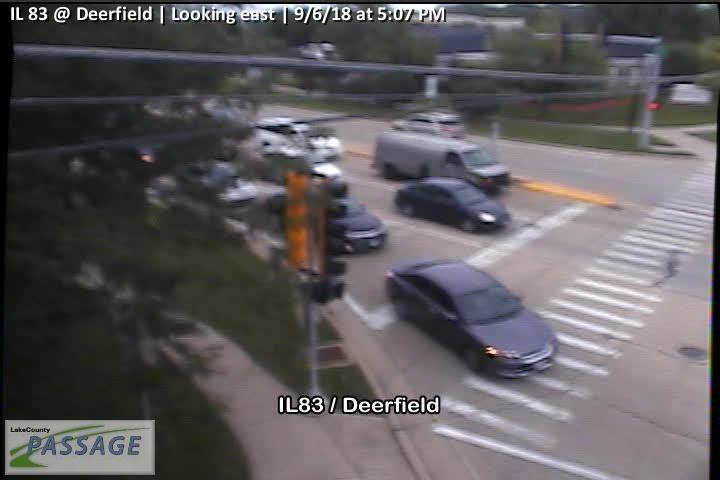SUV: (373, 128, 510, 197), (389, 110, 464, 142)
Sedan: (385, 261, 557, 378), (264, 192, 387, 253), (393, 176, 511, 234)
